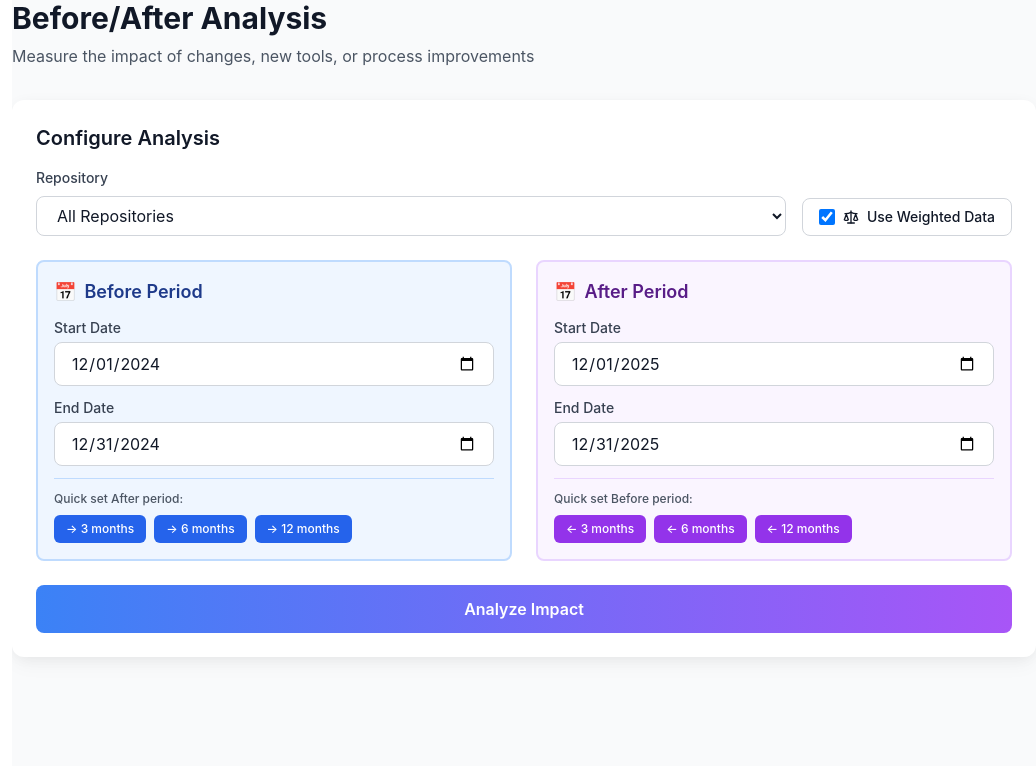
Test case: BeforeAfter › Analysis Button › should display results after clicking Analyze
Step 1. Click the button "Analyze Impact" → click(524, 609), box [36,585,1012,633]
(page scrolled)
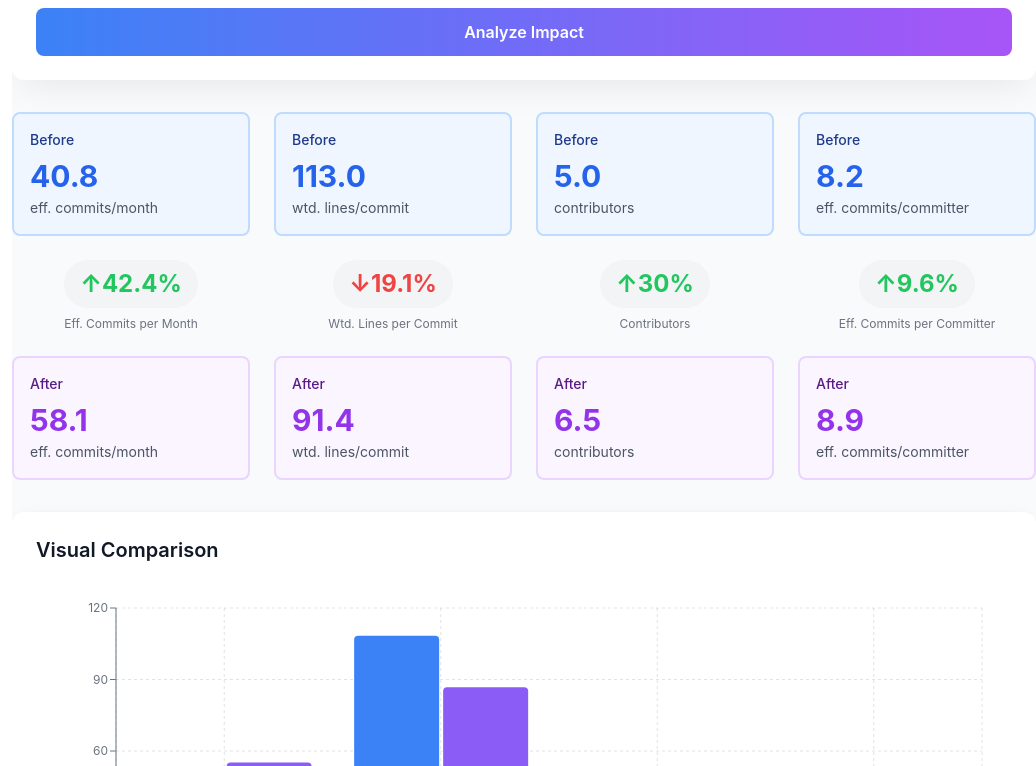
Now the 1st heading "Before" is shown, box [30,131,74,148]
Now the heading "After" below "Eff. Commits per Month" is shown, box [30,375,63,392]
